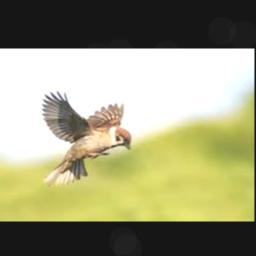Sparrow: (42, 91, 132, 186)
